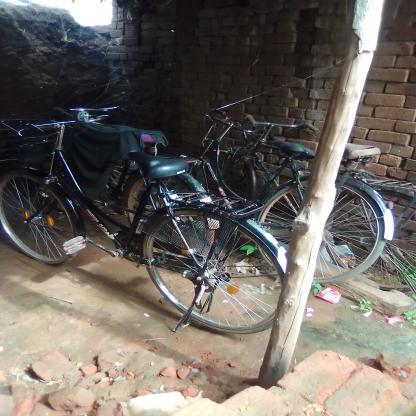bicycle: (11, 109, 290, 348), (202, 107, 397, 289)
